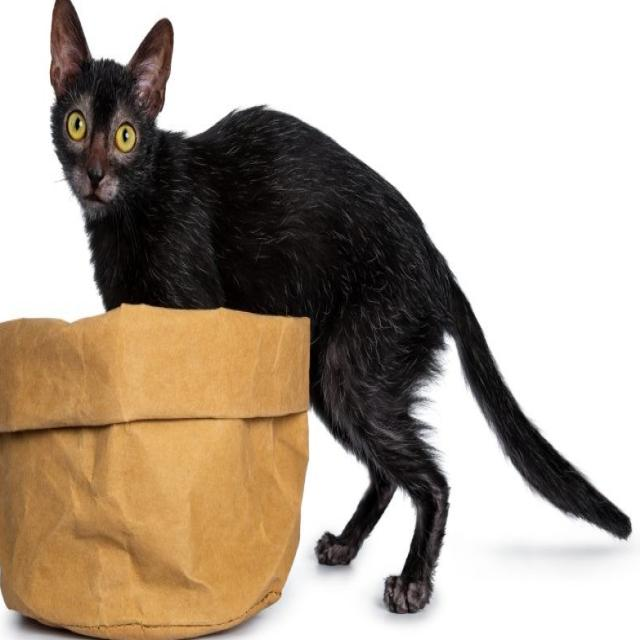Lykoi: (44, 0, 633, 620)
